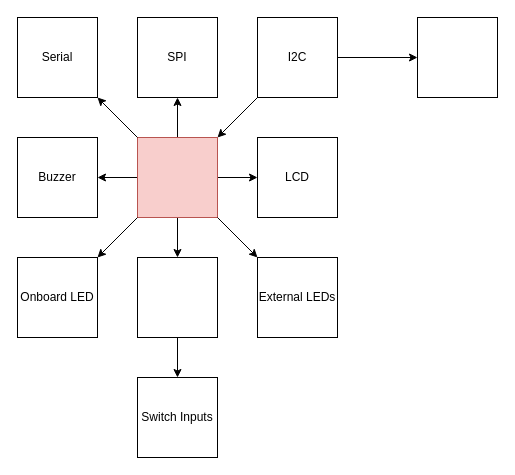
The diagram is 515 pixels wide and 475 high, and some of its shapes have lost their labels. Each missing label, with the centre of its shape:
MCU: point (177, 177)
Modules: point (457, 57)
Port Expander: point (177, 297)
